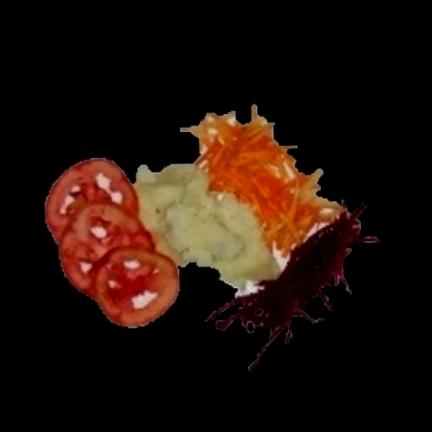beet: (207, 204, 379, 371)
carrot: (181, 106, 342, 256)
tomato: (46, 158, 180, 327), (135, 165, 278, 288)
